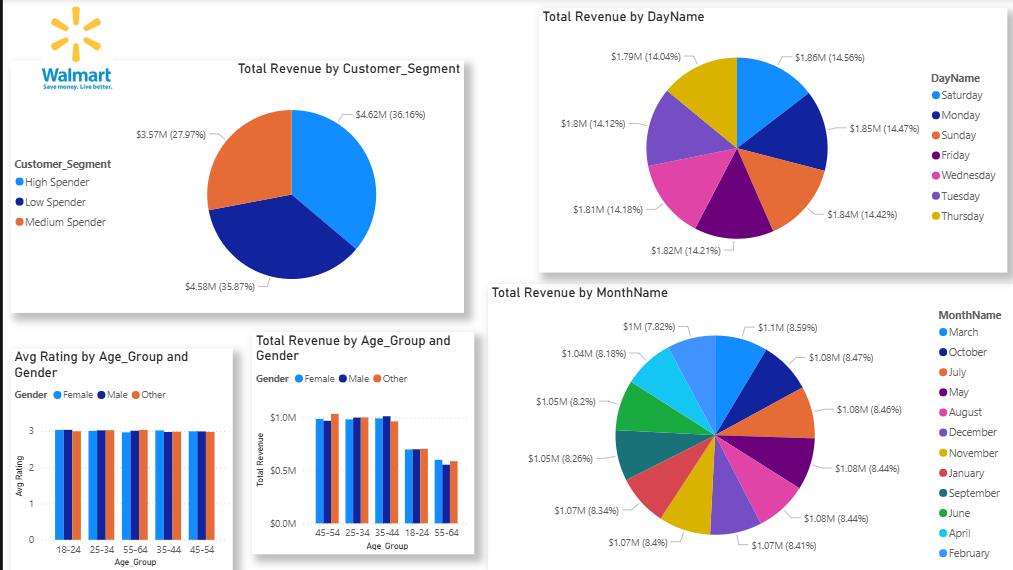

What the dashboard file says about the page in this screenshot:
{"tool":"powerbi","page":{"name":"Page 3","canvas":[1280,720],"ordinal":2},"visuals":[{"type":"clusteredColumnChart","fields":{"Category":["dim_customer.Age_Group"],"Y":["fact_sales.Total Revenue"],"Series":["dim_customer.Gender"]},"box":[314.2,419.6,279.7,279.7],"z":0},{"type":"clusteredColumnChart","fields":{"Category":["dim_customer.Age_Group"],"Y":["fact_sales.Avg Rating"],"Series":["dim_customer.Gender"]},"box":[10.4,440.3,279.7,279.7],"z":1000},{"type":"pieChart","fields":{"Category":["dim_customer.Customer_Segment"],"Y":["fact_sales.Total Revenue"]},"box":[10.4,77.7,571.5,317.7],"z":2000},{"type":"pieChart","fields":{"Category":["dim_date.MonthName"],"Y":["fact_sales.Total Revenue"]},"box":[609.5,359.1,669.9,360.9],"z":3000},{"type":"pieChart","fields":{"Category":["dim_date.DayName"],"Y":["fact_sales.Total Revenue"]},"box":[675.1,12.1,590.5,333.2],"z":4000},{"type":"image","box":[0,0,186.5,122.6],"z":9000}]}

Visuals, with their boxes in screenshot pixels (x1, y1, x2, y2), scaled from the page's 1280x720 canvas onto the 1013x570 screenshot:
clusteredColumnChart - dim_customer.Age_Group x fact_sales.Total Revenue: {"left": 249, "top": 332, "right": 470, "bottom": 554}
clusteredColumnChart - dim_customer.Age_Group x fact_sales.Avg Rating: {"left": 8, "top": 349, "right": 230, "bottom": 569}
pieChart - dim_customer.Customer_Segment x fact_sales.Total Revenue: {"left": 8, "top": 62, "right": 461, "bottom": 313}
pieChart - dim_date.MonthName x fact_sales.Total Revenue: {"left": 482, "top": 284, "right": 1012, "bottom": 569}
pieChart - dim_date.DayName x fact_sales.Total Revenue: {"left": 534, "top": 10, "right": 1002, "bottom": 273}
image: {"left": 0, "top": 0, "right": 148, "bottom": 97}
